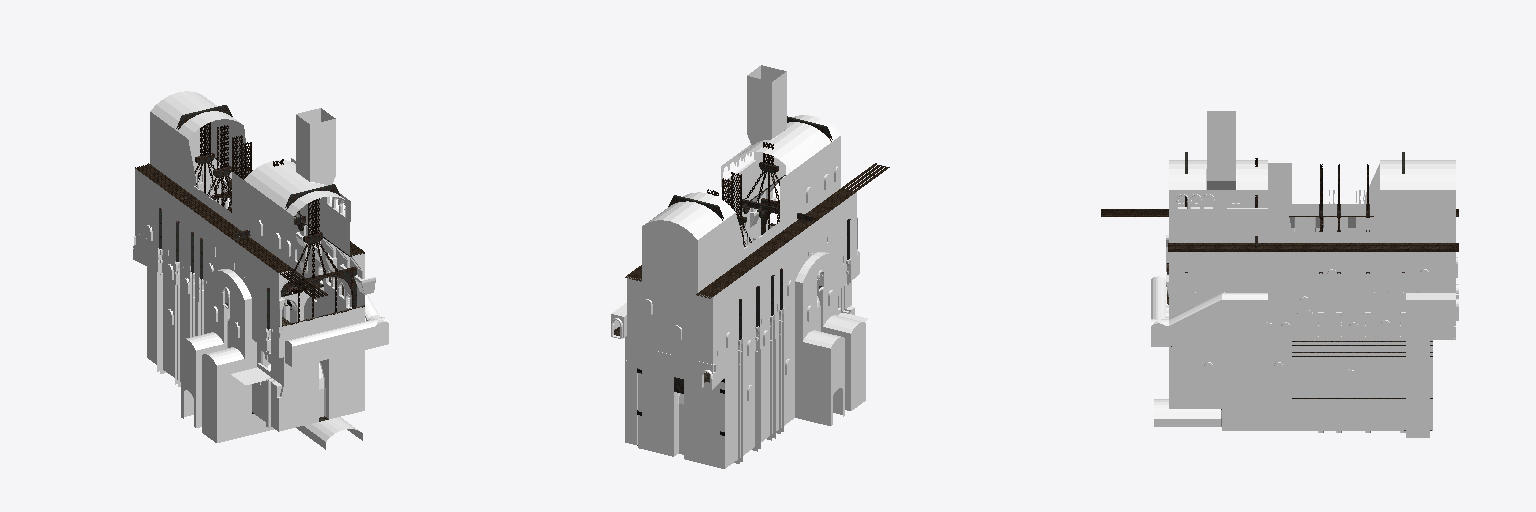
3 renders of one model, left to right at view 1: azimuth 30°, elevation 25°; view 2: azimuth 150°, elevation 25°; view 3: azimuth 270°, elevation 25°, orthographic.
Parts seen in each view (by area): view 1: mesh0, mesh14, mesh20, mesh17, mesh2, mesh15, mesh3; view 2: mesh0, mesh14, mesh17, mesh15, mesh20, mesh2; view 3: mesh0, mesh20, mesh17, mesh13.
Part boxes in pixels (bbox=[...]): mesh0: bbox=[133, 91, 364, 449]; mesh14: bbox=[139, 161, 375, 427]; mesh20: bbox=[285, 158, 388, 367]; mesh17: bbox=[135, 151, 364, 298]; mesh2: bbox=[195, 122, 337, 321]; mesh15: bbox=[159, 105, 356, 329]; mesh3: bbox=[224, 287, 325, 416]; mesh0: bbox=[627, 65, 865, 468]; mesh14: bbox=[717, 179, 857, 463]; mesh17: bbox=[625, 163, 889, 298]; mesh15: bbox=[668, 116, 850, 339]; mesh20: bbox=[611, 145, 859, 444]; mesh2: bbox=[707, 142, 779, 246]; mesh0: bbox=[1154, 111, 1457, 430]; mesh20: bbox=[1151, 191, 1455, 437]; mesh17: bbox=[1101, 209, 1458, 251]; mesh13: bbox=[1292, 341, 1432, 398].
Size of the model in its own units: 27.01 by 57.81 by 61.13.
22 materials, 12 textured.